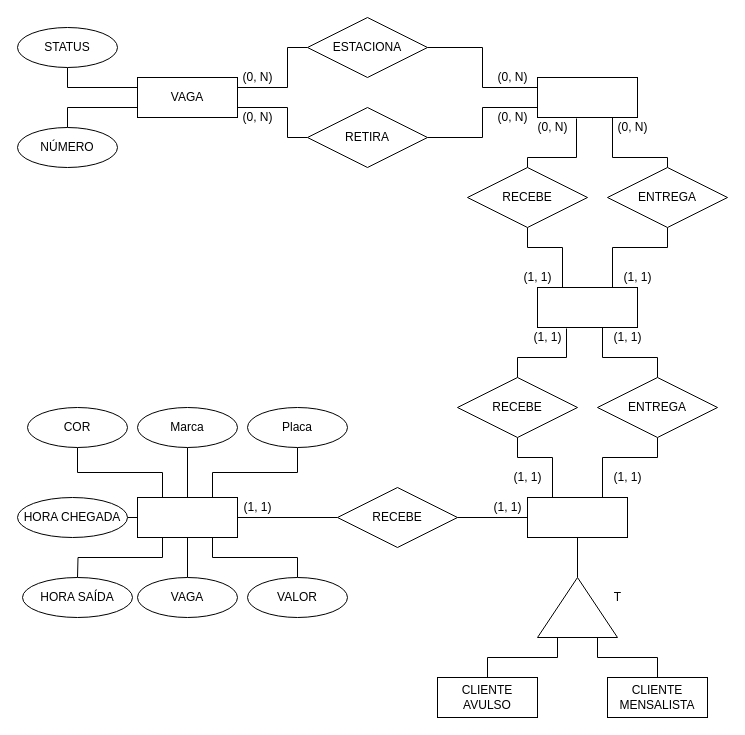
Image size: 745x735. Some labels were removed from this diagram. The box of each missing label's shape, as (x1, y1, x2, y2) in pixels:
CARRO: (536, 286, 638, 328)
CLIENTE: (526, 496, 628, 538)
COMPRAVANTE: (136, 496, 238, 538)
MANOBRISTA: (536, 76, 638, 118)
